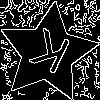K: (23, 28, 73, 84)
